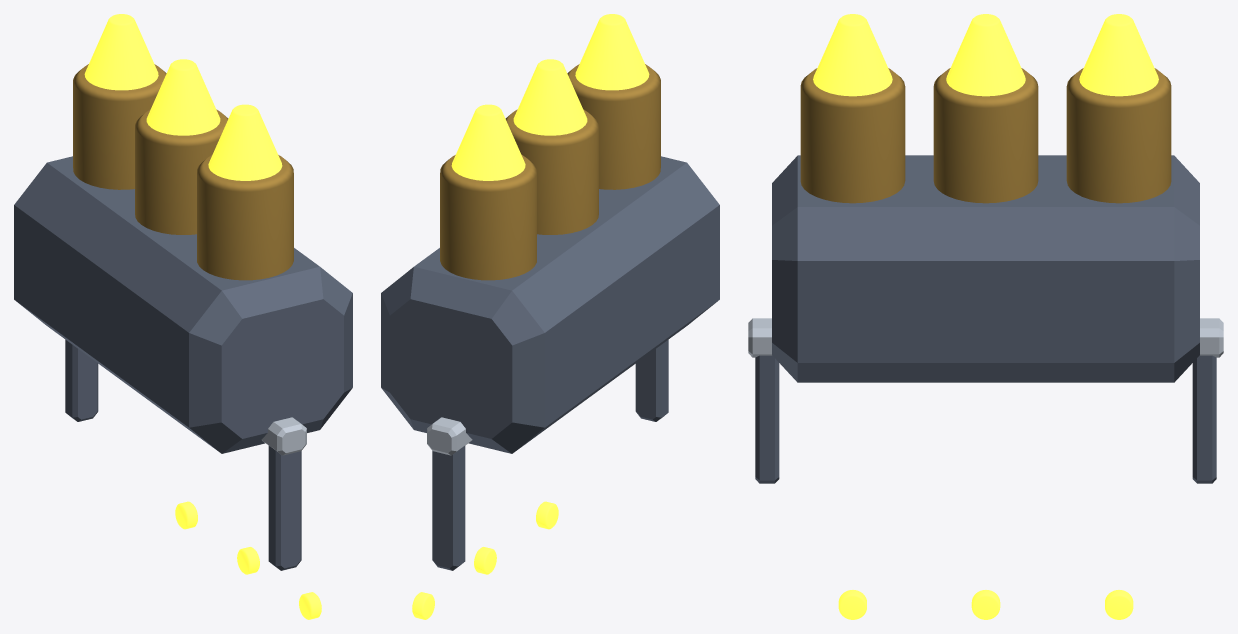
File: tower_nova_rate_s4.glb
3 renders of one model, left to right at view 1: azimuth 30°, elevation 25°; view 2: azimuth 150°, elevation 25°; view 3: azimuth 270°, elevation 25°, orthographic. The views are drawn at different scales.
Parts seen in each view (by area): view 1: nova_hopper_ext, nova_shell_b0, nova_shell_b2, nova_shell_b1, nova_hoist_rail_post-0.46, nova_shell_b_fuse1, nova_shell_b_fuse2, nova_shell_b_fuse0, nova_hoist_rail_post0.46, nova_hoist_rail, nova_ready_lamp-0.28, nova_ready_lamp0.28 (+1 smaller); view 2: nova_hopper_ext, nova_shell_b2, nova_shell_b0, nova_shell_b1, nova_hoist_rail_post0.46, nova_shell_b_fuse1, nova_shell_b_fuse0, nova_shell_b_fuse2, nova_hoist_rail_post-0.46, nova_hoist_rail, nova_ready_lamp0.28, nova_ready_lamp-0.28 (+1 smaller); view 3: nova_hopper_ext, nova_shell_b0, nova_shell_b2, nova_shell_b1, nova_shell_b_fuse1, nova_shell_b_fuse0, nova_shell_b_fuse2, nova_hoist_rail_post-0.46, nova_hoist_rail_post0.46, nova_hoist_rail, nova_ready_lamp0, nova_ready_lamp-0.28 (+1 smaller).
Part boxes in pixels (left/top/right/bottom): nova_hopper_ext: left=14, top=156, right=352, bottom=453; nova_shell_b0: left=197, top=154, right=293, bottom=280; nova_shell_b2: left=73, top=64, right=166, bottom=189; nova_shell_b1: left=135, top=109, right=228, bottom=234; nova_hoist_rail_post-0.46: left=268, top=445, right=301, bottom=570; nova_shell_b_fuse1: left=146, top=59, right=220, bottom=135; nova_shell_b_fuse2: left=84, top=14, right=158, bottom=90; nova_shell_b_fuse0: left=208, top=104, right=282, bottom=180; nova_hoist_rail_post0.46: left=65, top=339, right=98, bottom=421; nova_hoist_rail: left=261, top=417, right=306, bottom=455; nova_ready_lamp-0.28: left=299, top=592, right=321, bottom=619; nova_ready_lamp0.28: left=175, top=501, right=197, bottom=529; nova_hopper_ext: left=381, top=156, right=719, bottom=453; nova_shell_b2: left=440, top=154, right=536, bottom=280; nova_shell_b0: left=567, top=64, right=660, bottom=189; nova_shell_b1: left=505, top=109, right=598, bottom=234; nova_hoist_rail_post0.46: left=432, top=445, right=465, bottom=570; nova_shell_b_fuse1: left=513, top=59, right=587, bottom=135; nova_shell_b_fuse0: left=575, top=14, right=649, bottom=90; nova_shell_b_fuse2: left=451, top=104, right=525, bottom=180; nova_hoist_rail_post-0.46: left=635, top=339, right=668, bottom=421; nova_hoist_rail: left=427, top=417, right=472, bottom=455; nova_ready_lamp0.28: left=412, top=592, right=434, bottom=619; nova_ready_lamp-0.28: left=536, top=501, right=558, bottom=529; nova_hopper_ext: left=772, top=155, right=1199, bottom=382; nova_shell_b0: left=800, top=68, right=905, bottom=203; nova_shell_b2: left=1066, top=68, right=1171, bottom=203; nova_shell_b1: left=933, top=68, right=1038, bottom=203; nova_shell_b_fuse1: left=946, top=14, right=1025, bottom=96; nova_shell_b_fuse0: left=813, top=14, right=892, bottom=96; nova_shell_b_fuse2: left=1079, top=14, right=1158, bottom=96; nova_hoist_rail_post-0.46: left=755, top=355, right=779, bottom=483; nova_hoist_rail_post0.46: left=1192, top=355, right=1216, bottom=483; nova_hoist_rail: left=748, top=318, right=1223, bottom=357; nova_ready_lamp0: left=971, top=590, right=1000, bottom=619; nova_ready_lamp-0.28: left=838, top=590, right=866, bottom=619.
Size of the model in its own units: 0.428 by 1.31 by 1.
